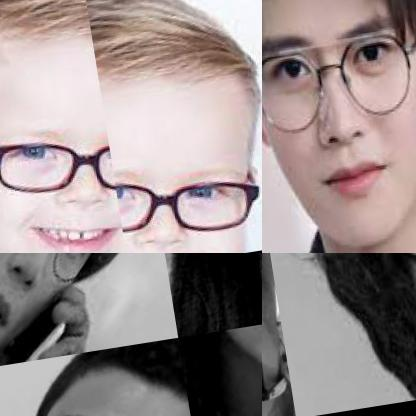glasses: (262, 26, 415, 142), (114, 155, 261, 241), (0, 126, 115, 210), (0, 368, 205, 415), (0, 253, 138, 310), (197, 317, 261, 411), (262, 326, 295, 415)
